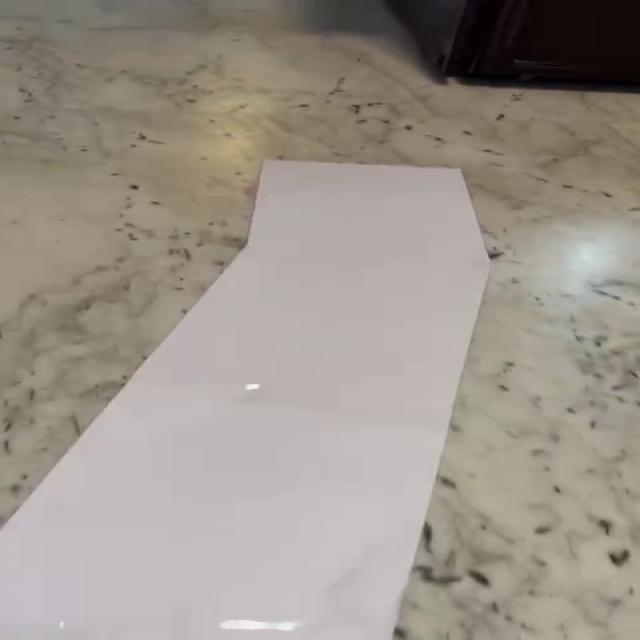road: (2, 157, 488, 640)
